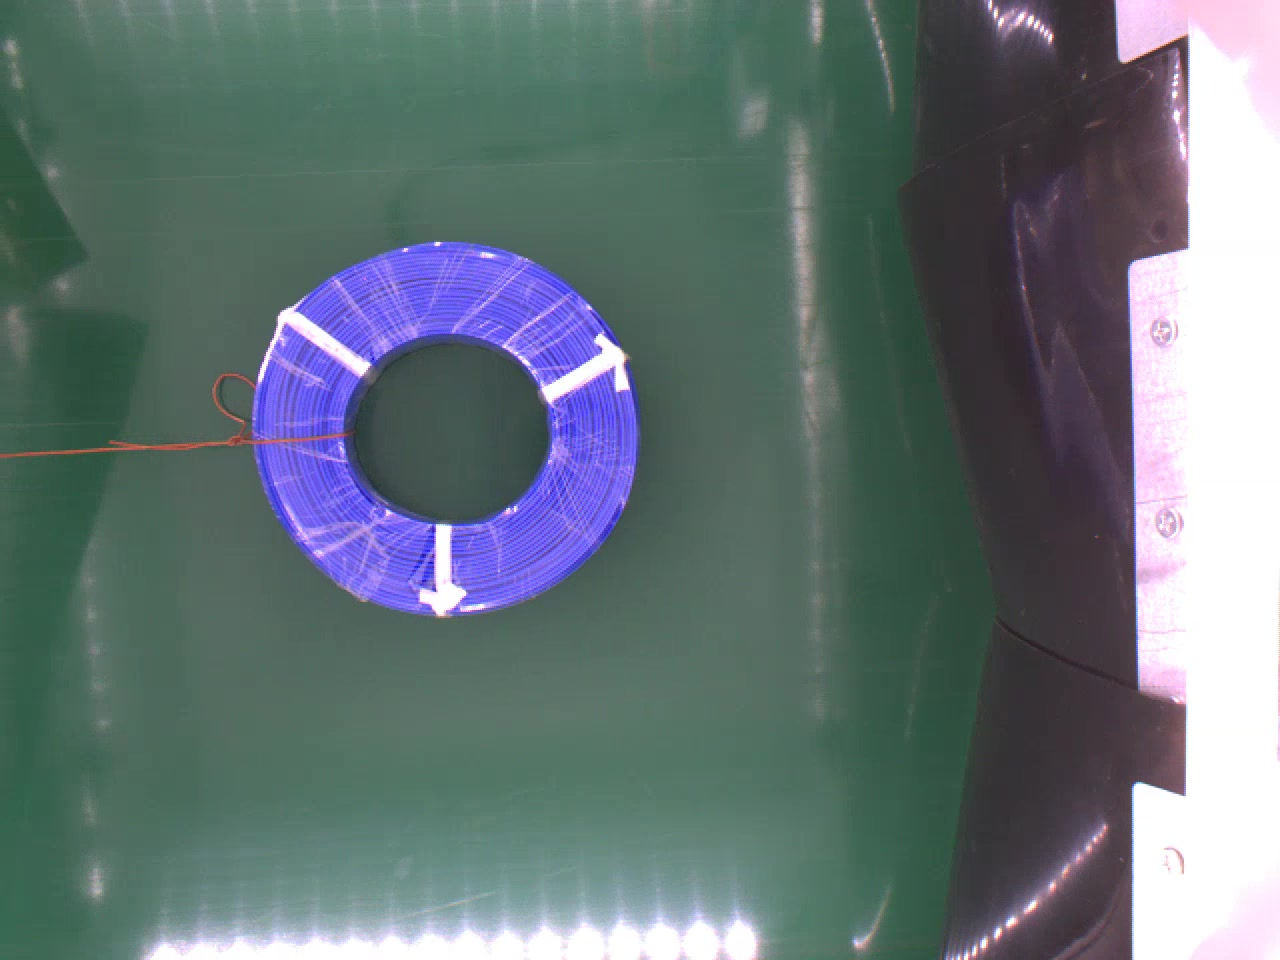blue: (247, 242, 641, 618)
